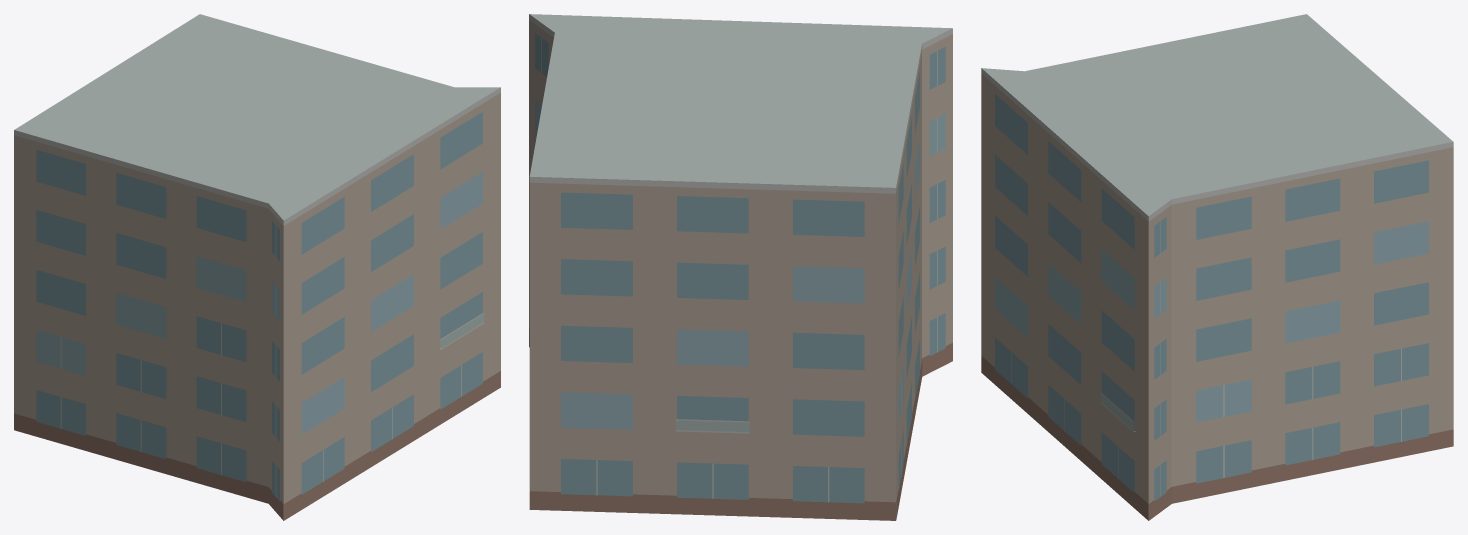
Rendered from survey-upis-32906439.glb.
The picture shows the model from 3 angles, left to right: view 1: azimuth 30°, elevation 25°; view 2: azimuth 150°, elevation 25°; view 3: azimuth 270°, elevation 25°; orthographic projection. The views are drawn at different scales.
Visible parts, largest first — view 1: survey-upis-32906439.tmp; view 2: survey-upis-32906439.tmp; view 3: survey-upis-32906439.tmp.
Boxes of the visible parts, x1=… form: survey-upis-32906439.tmp: x1=14, y1=14, x2=500, y2=520; survey-upis-32906439.tmp: x1=529, y1=14, x2=952, y2=520; survey-upis-32906439.tmp: x1=981, y1=14, x2=1453, y2=520.
Bounding box in the file's own units: 19.67 × 13.8 × 19.4.
